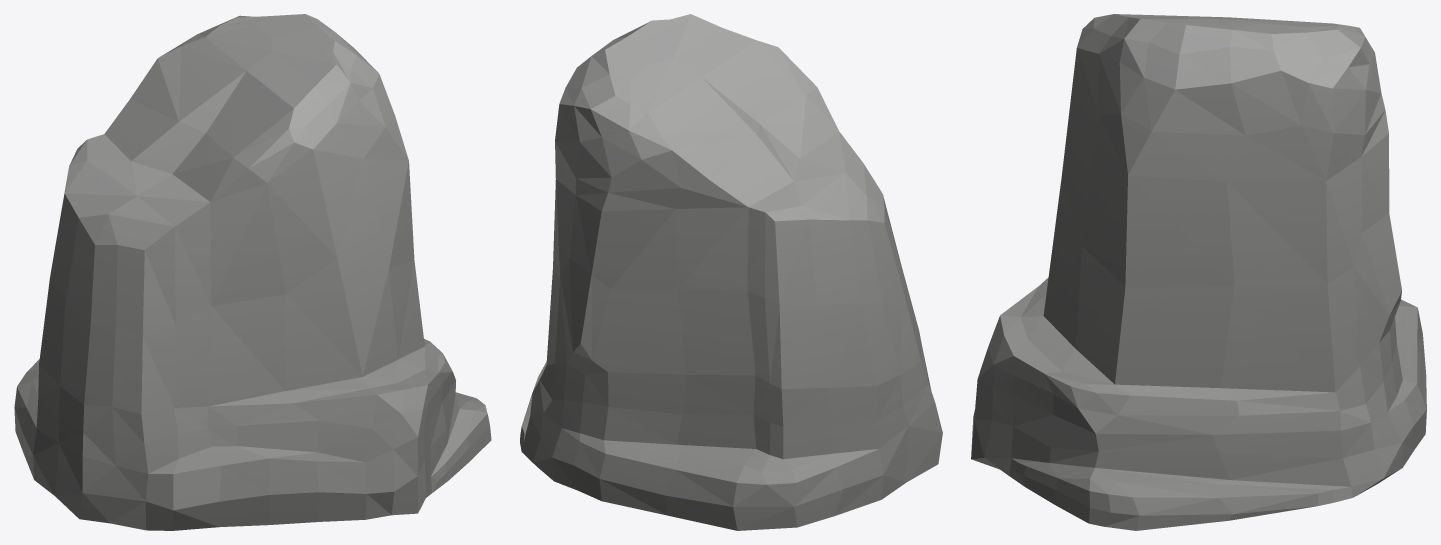
Rendered from Cavern_RockCliff-02.fbx.
The picture shows the model from 3 angles, left to right: view 1: azimuth 30°, elevation 25°; view 2: azimuth 150°, elevation 25°; view 3: azimuth 270°, elevation 25°; orthographic projection. The views are drawn at different scales.
Parts seen in each view (by area): view 1: Cavern_RockCliff-02; view 2: Cavern_RockCliff-02; view 3: Cavern_RockCliff-02.
Boxes of the visible parts, x1,y1,x2,y2 form: Cavern_RockCliff-02: (14, 14, 491, 530); Cavern_RockCliff-02: (520, 14, 942, 530); Cavern_RockCliff-02: (971, 14, 1426, 530).
Size of the model in its own units: 1502 by 1447 by 1348.
Materials: 1 (1 with a texture image).
